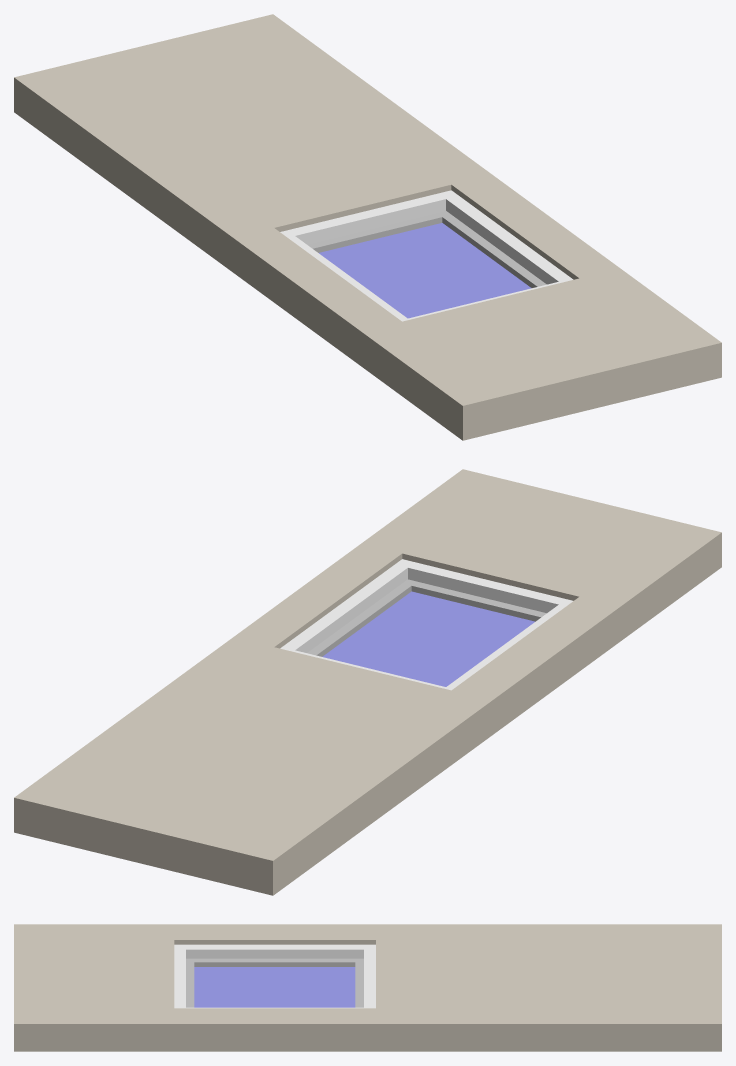
Rendered from Window02.gltf.
3 renders of one model, top to bottom at view 1: azimuth 30°, elevation 25°; view 2: azimuth 150°, elevation 25°; view 3: azimuth 270°, elevation 25°, orthographic. The views are drawn at different scales.
Parts seen in each view (by area): view 1: SIP, Glass, WindowFrame, WindowCasement; view 2: SIP, Glass, WindowFrame, WindowCasement; view 3: SIP, Glass, WindowFrame, WindowCasement.
Boxes of the visible parts, bbox=[...] form: SIP: bbox=[14, 14, 721, 440]; Glass: bbox=[319, 223, 531, 318]; WindowFrame: bbox=[280, 190, 573, 321]; WindowCasement: bbox=[307, 211, 546, 287]; SIP: bbox=[14, 469, 721, 895]; Glass: bbox=[322, 591, 534, 686]; WindowFrame: bbox=[280, 559, 572, 690]; WindowCasement: bbox=[307, 579, 546, 656]; SIP: bbox=[14, 924, 721, 1051]; Glass: bbox=[194, 967, 355, 1007]; WindowFrame: bbox=[174, 944, 375, 1008]; WindowCasement: bbox=[186, 958, 363, 1007].
Bounding box in the file's own units: 1.17 × 0.1726 × 3.5.
